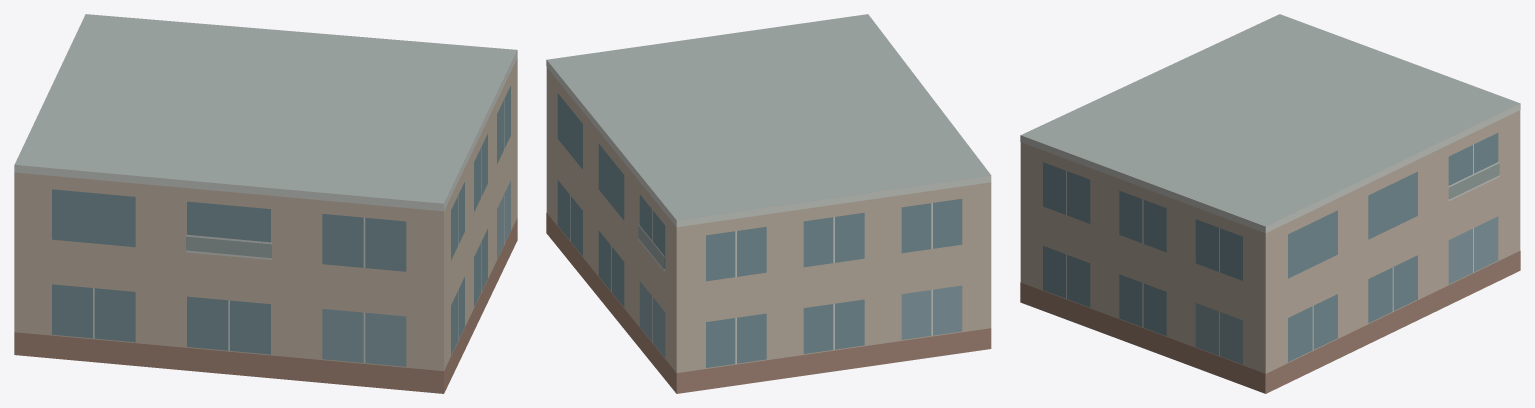
File: survey-upis-32606339.glb
The picture shows the model from 3 angles, left to right: view 1: azimuth 30°, elevation 25°; view 2: azimuth 150°, elevation 25°; view 3: azimuth 270°, elevation 25°; orthographic projection. The views are drawn at different scales.
Parts seen in each view (by area): view 1: survey-upis-32606339.tmp; view 2: survey-upis-32606339.tmp; view 3: survey-upis-32606339.tmp.
Part boxes in pixels (left/top/right/bottom): survey-upis-32606339.tmp: left=14, top=14, right=517, bottom=393; survey-upis-32606339.tmp: left=546, top=14, right=991, bottom=393; survey-upis-32606339.tmp: left=1020, top=14, right=1520, bottom=393.
Size of the model in its own units: 16.64 by 6.1 by 16.53.
